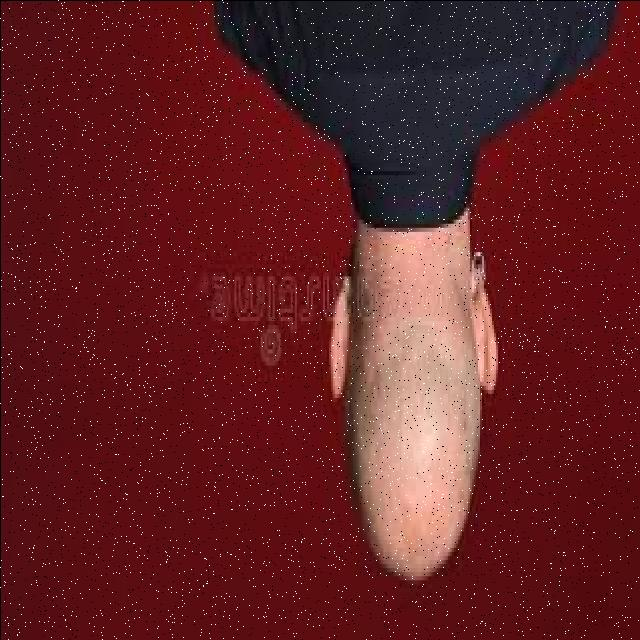Non_Helmet: (318, 249, 512, 596)
